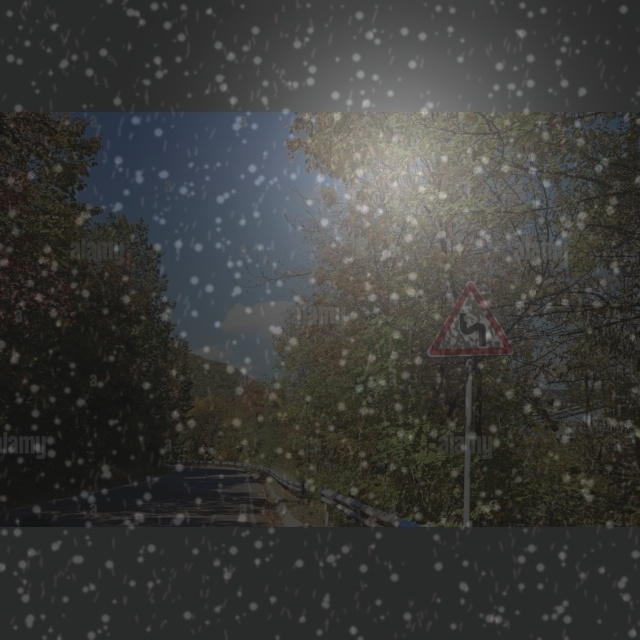Left_Reverse_Bend: (427, 278, 513, 363)
